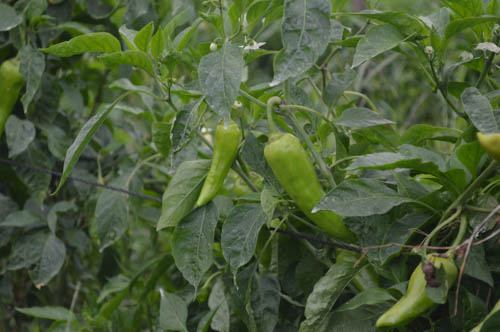ChiliPepper: (265, 135, 363, 239), (371, 254, 461, 332), (200, 123, 240, 207)
